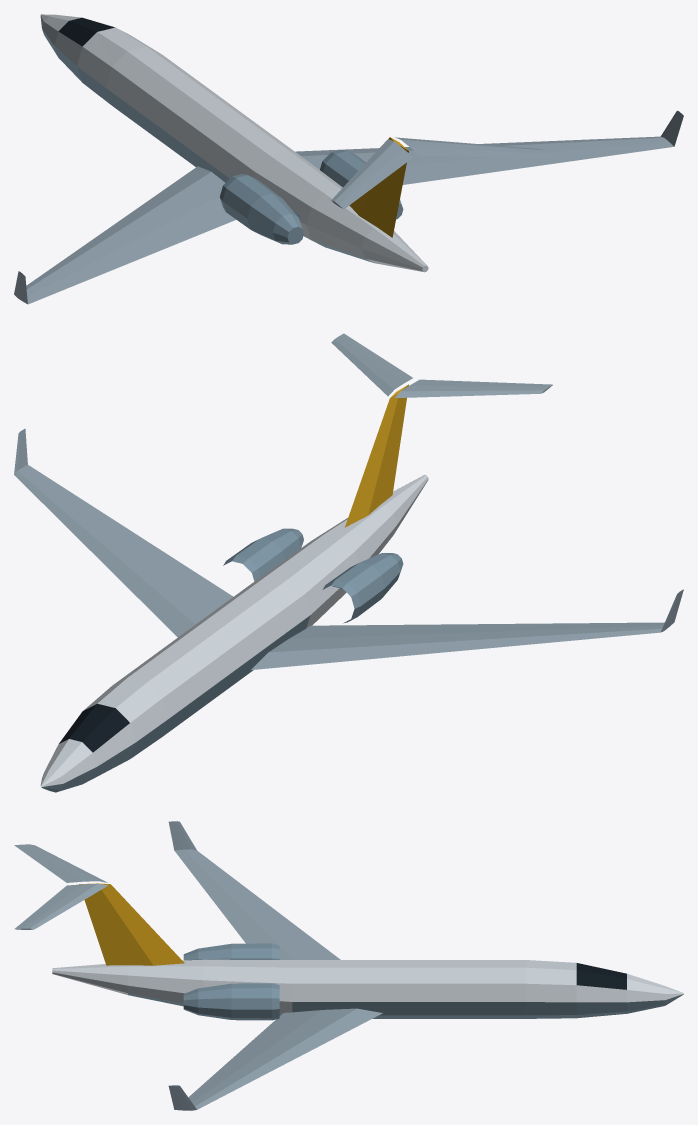
Rendered from GLEX.glb.
The picture shows the model from 3 angles, top to bottom: view 1: azimuth 30°, elevation 25°; view 2: azimuth 150°, elevation 25°; view 3: azimuth 270°, elevation 25°; orthographic projection. The views are drawn at different scales.
Parts seen in each view (by area): view 1: lod0; view 2: lod0; view 3: lod0.
Part boxes in pixels (box(x1,y1,x2,y2)): lod0: box(14, 14, 683, 304); lod0: box(14, 333, 683, 792); lod0: box(14, 821, 683, 1110).
Size of what is drawn, in the model's own units: 0.9326 by 0.2185 by 1.
